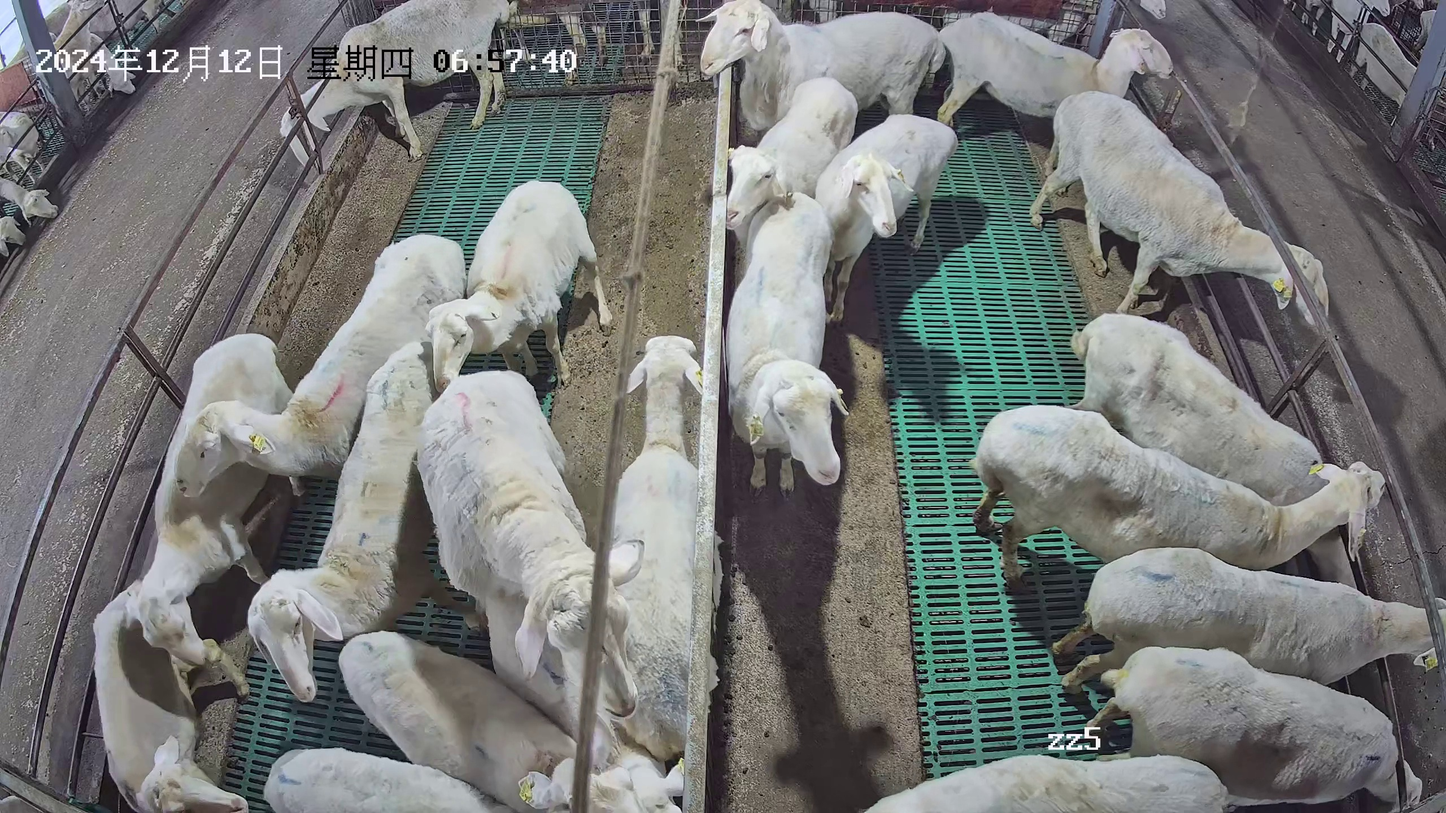Smounting: (415, 368, 687, 812)
mounted: (481, 594, 684, 813)
